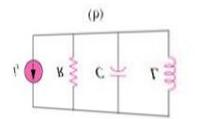inductor: (160, 53, 178, 95)
